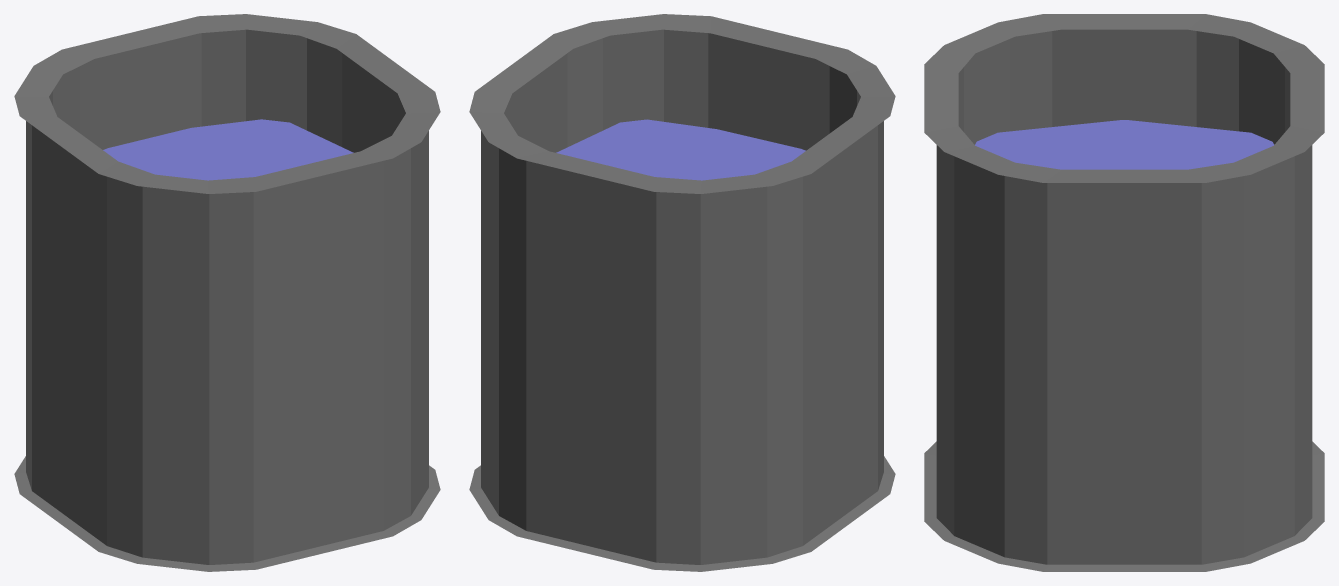
Rendered from CupPrefab3.fbx.
3 views of the same model, side by side, from view 1: azimuth 30°, elevation 25°; view 2: azimuth 150°, elevation 25°; view 3: azimuth 270°, elevation 25° (orthographic). The views are drawn at different scales.
Visible parts, largest first — view 1: Cube, Plane; view 2: Cube, Plane; view 3: Cube, Plane.
Boxes of the visible parts, x1,y1,x2,y2 form: Cube: (14, 14, 440, 571); Plane: (103, 119, 353, 180); Cube: (469, 14, 895, 571); Plane: (556, 119, 805, 180); Cube: (924, 14, 1324, 571); Plane: (975, 120, 1274, 169).
Bounding box in the file's own units: 225 × 244 × 225.
